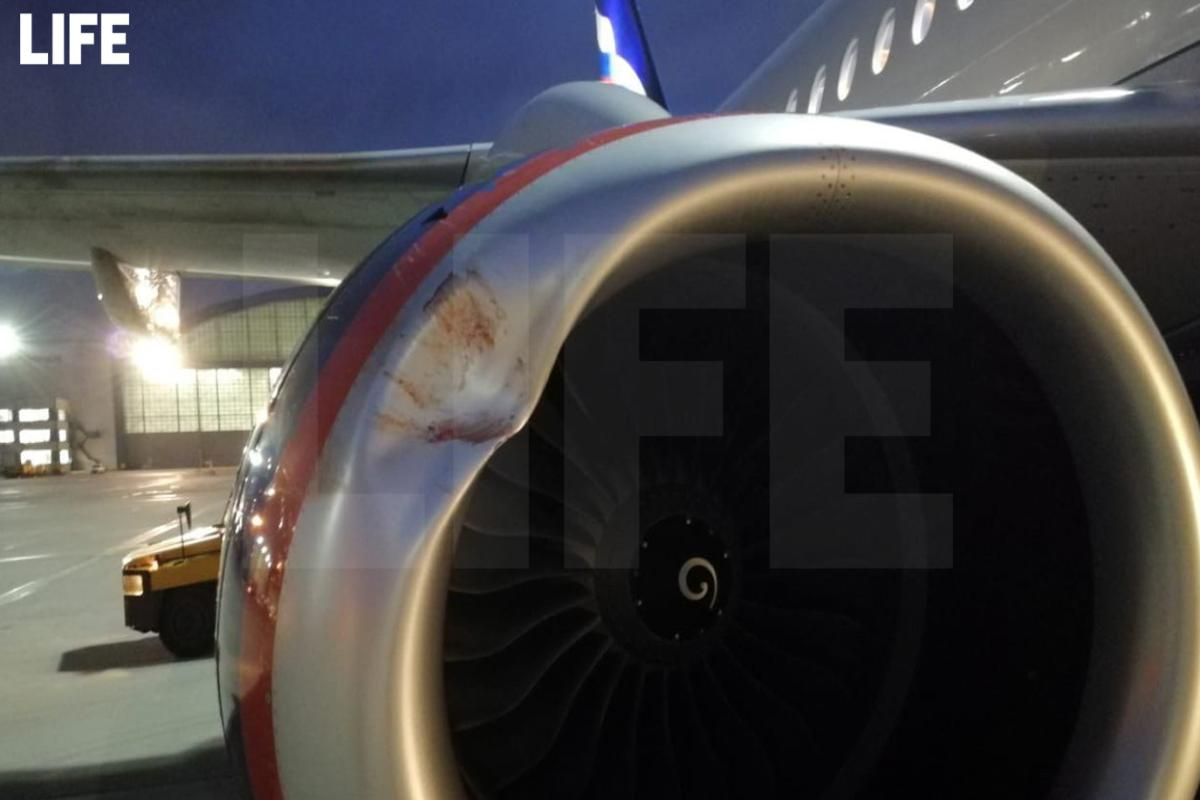Fuselage_damage: (356, 252, 582, 563)
